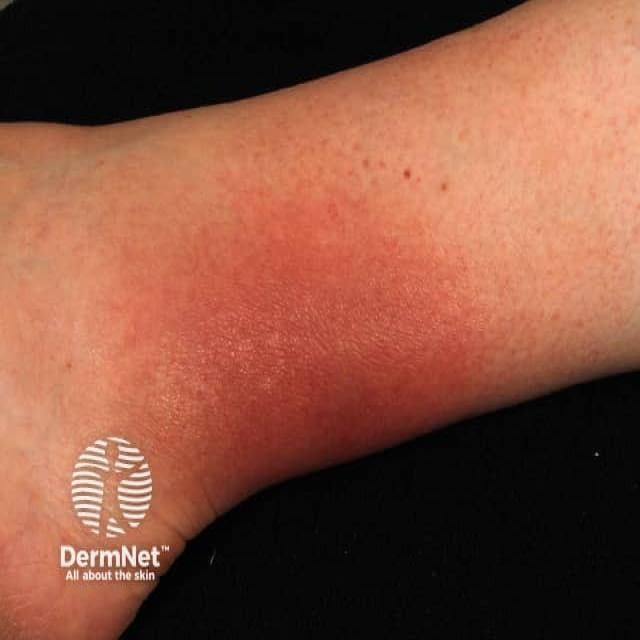Eczema: (129, 197, 464, 465)
